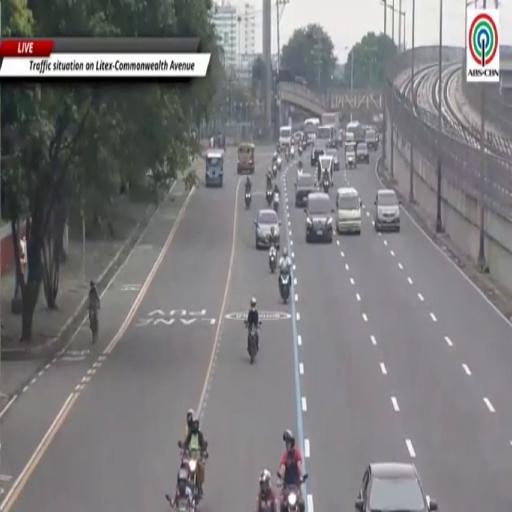bus: (304, 118, 320, 145)
car: (355, 462, 437, 511), (305, 192, 333, 243), (336, 188, 362, 234), (375, 189, 400, 231), (255, 210, 280, 249), (295, 173, 315, 206), (319, 155, 333, 181), (311, 141, 325, 166), (356, 142, 370, 163), (345, 142, 356, 168), (366, 128, 378, 150), (327, 149, 339, 170), (292, 132, 303, 146)
jeepney: (206, 150, 223, 186), (237, 143, 254, 174)
motorcycle: (179, 441, 207, 503), (165, 494, 195, 511), (282, 486, 300, 511), (248, 326, 258, 364), (280, 269, 290, 302), (89, 308, 98, 343), (269, 245, 276, 273), (273, 192, 279, 213), (322, 178, 330, 193), (245, 190, 251, 209), (266, 189, 272, 205), (284, 146, 290, 162), (276, 156, 281, 170), (273, 165, 278, 178), (298, 144, 302, 155), (291, 147, 294, 157)
truck: (321, 112, 341, 147), (346, 121, 365, 142)
